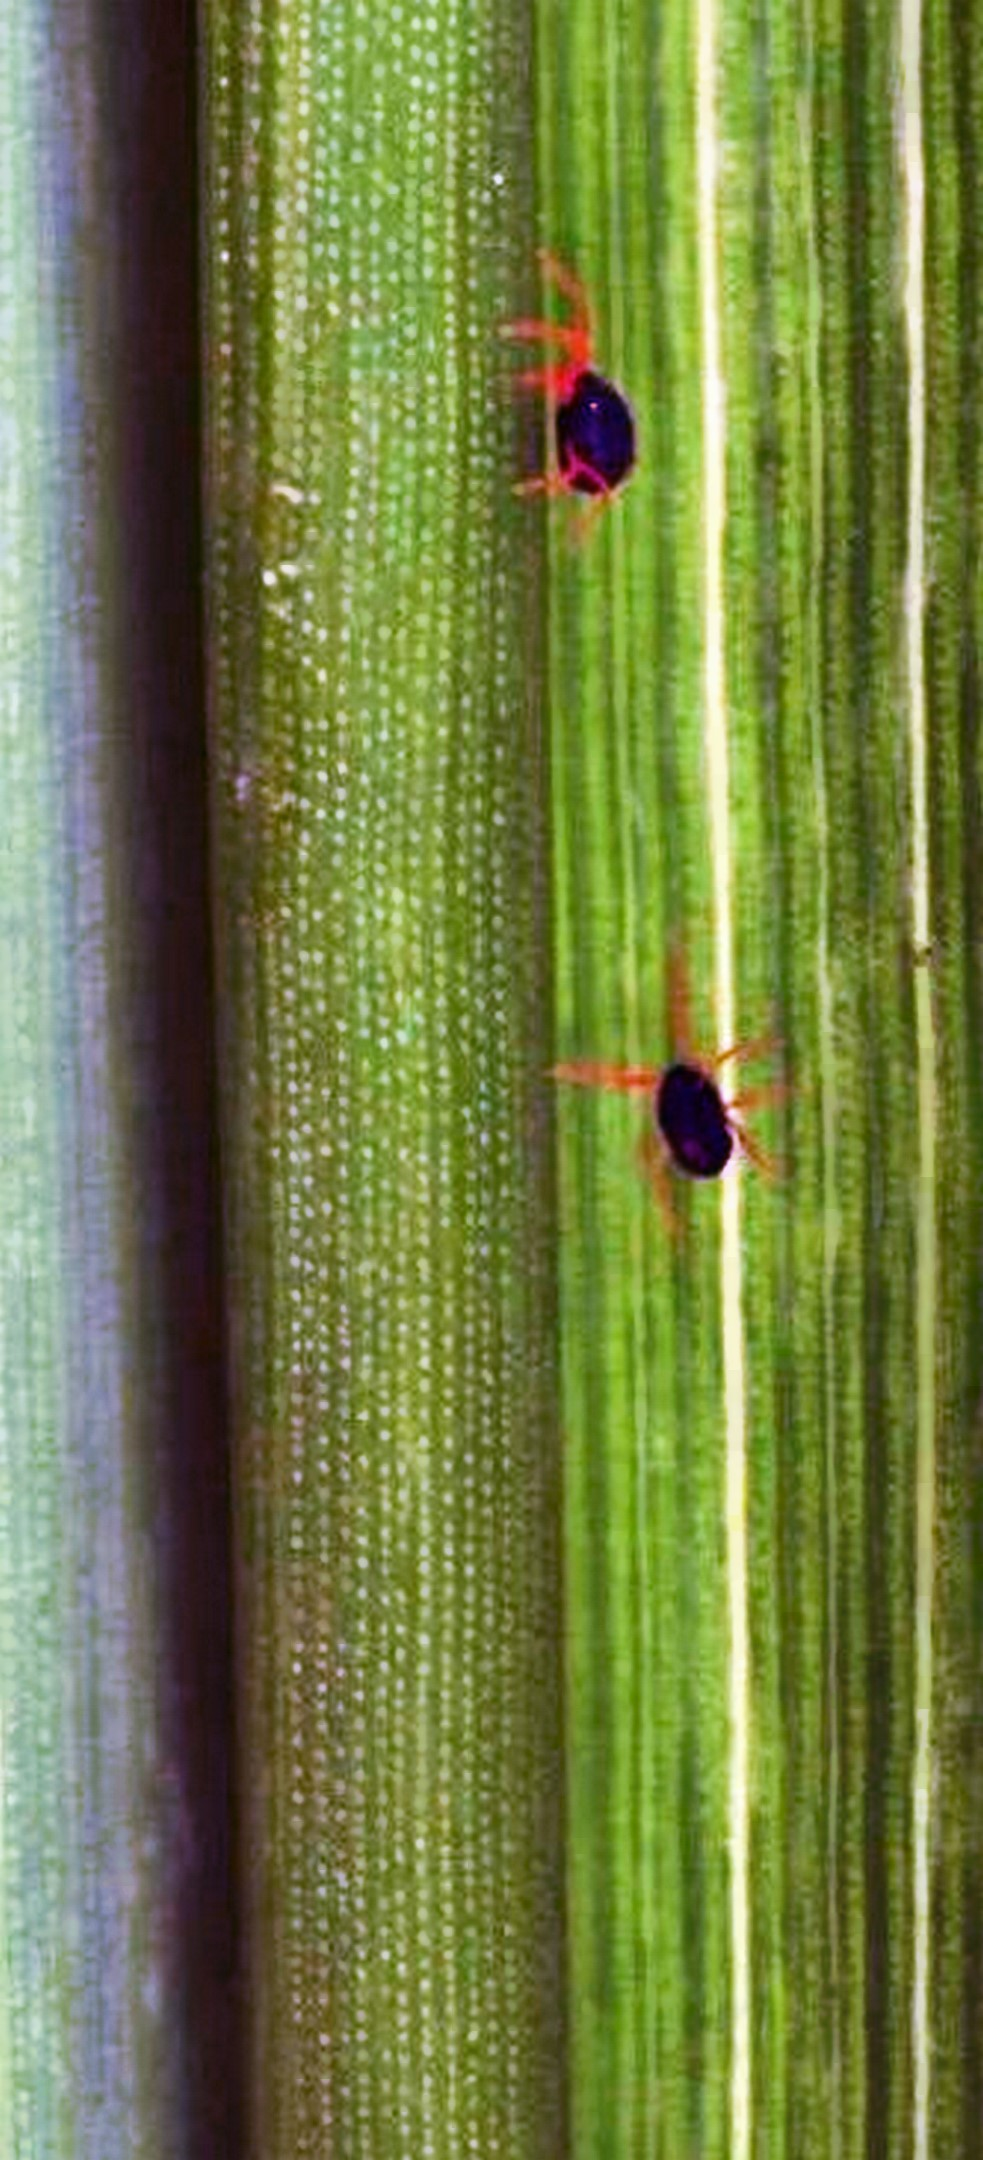Wheat Red Spider: (511, 926, 822, 1254)
